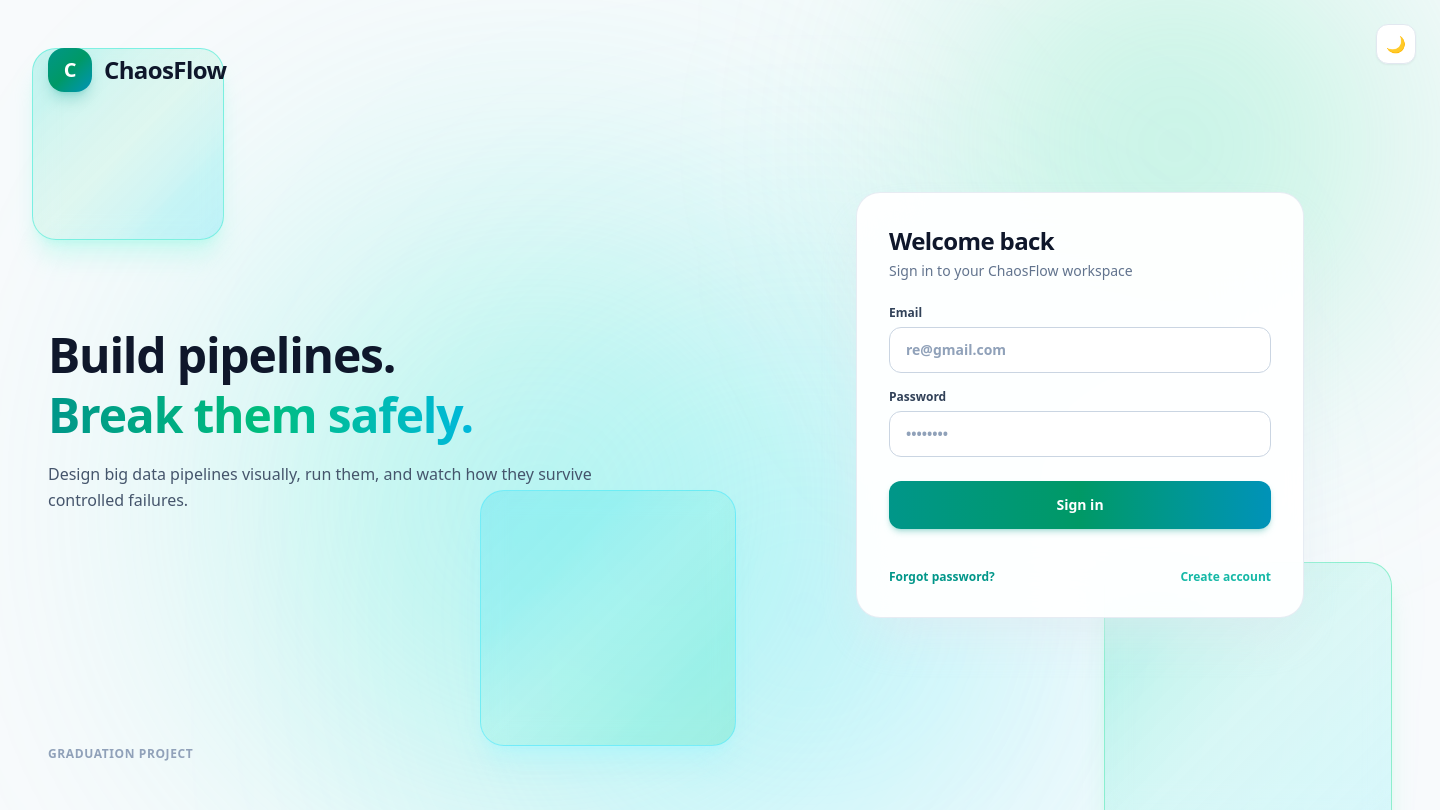
Scenario: LoginPage › shows validation errors when submitted empty
The image size is (1440, 810).
Click the button "Sign in": (1080, 505) [889,481,1271,529]
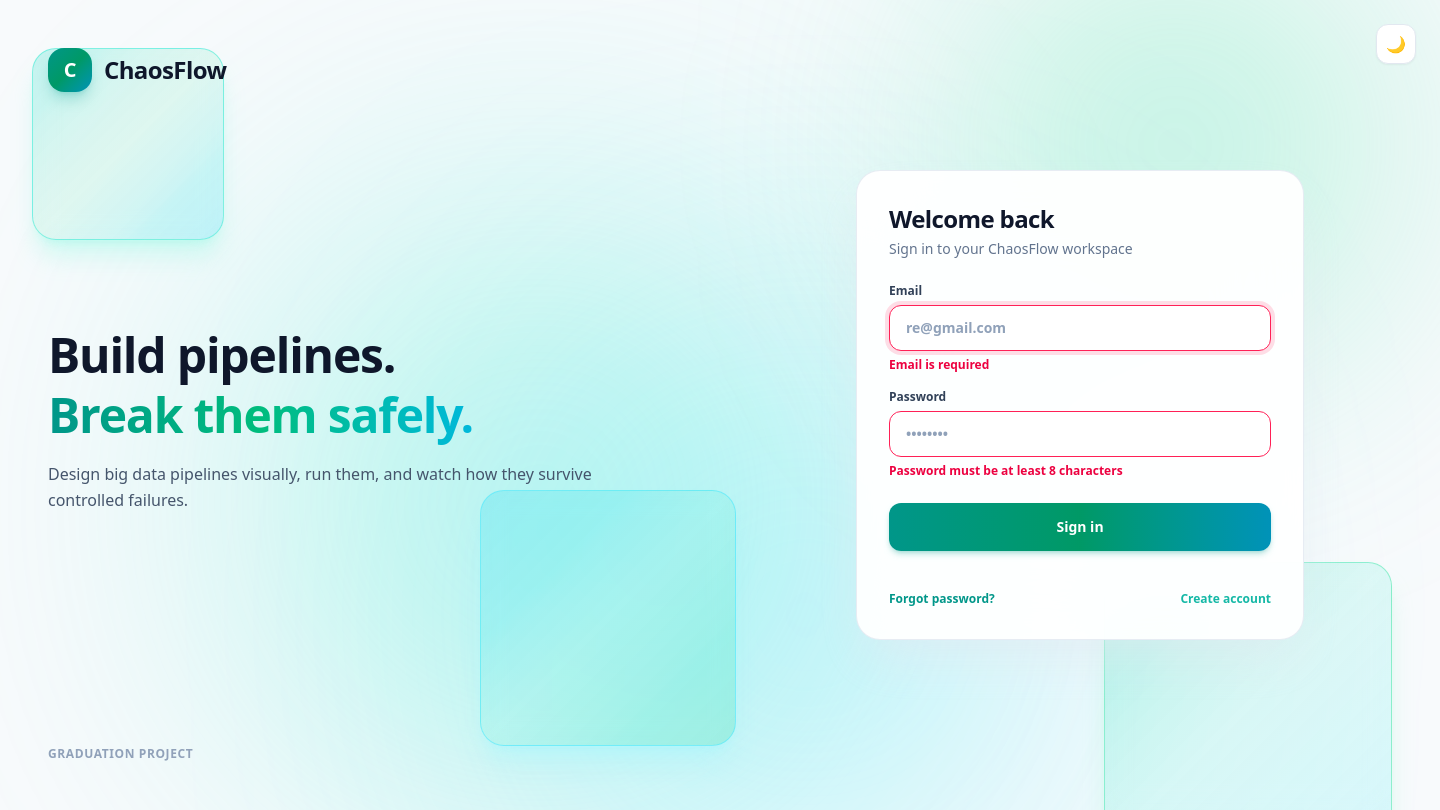
Check: the text "Email is required" is shown, box [889,356,989,373]
Check: the text "Password must be at least 8 characters" is shown, box [889,462,1123,479]
